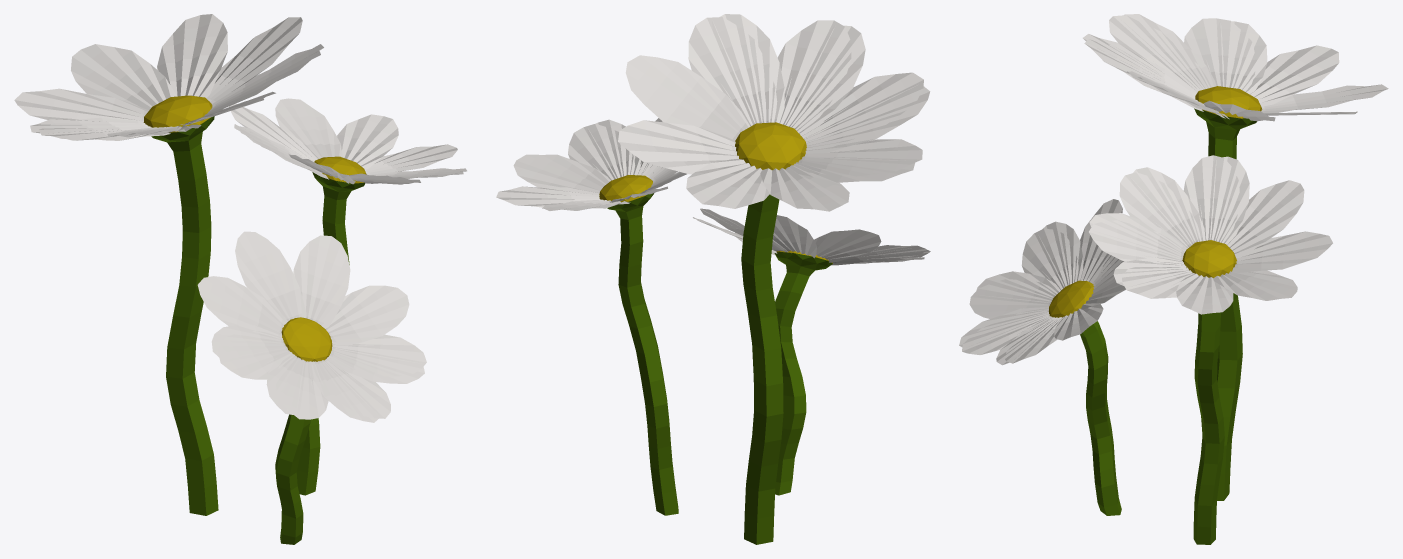
File: flowers_white.fbx
3 renders of one model, left to right at view 1: azimuth 30°, elevation 25°; view 2: azimuth 150°, elevation 25°; view 3: azimuth 270°, elevation 25°, orthographic. The views are drawn at different scales.
Parts seen in each view (by area): view 1: Flowers_white; view 2: Flowers_white; view 3: Flowers_white.
Boxes of the visible parts, x1=… form: Flowers_white: x1=14, y1=14, x2=466, y2=544; Flowers_white: x1=496, y1=14, x2=930, y2=544; Flowers_white: x1=959, y1=14, x2=1388, y2=544.
Bounding box in the file's own units: 52.84 × 57.83 × 49.59.
